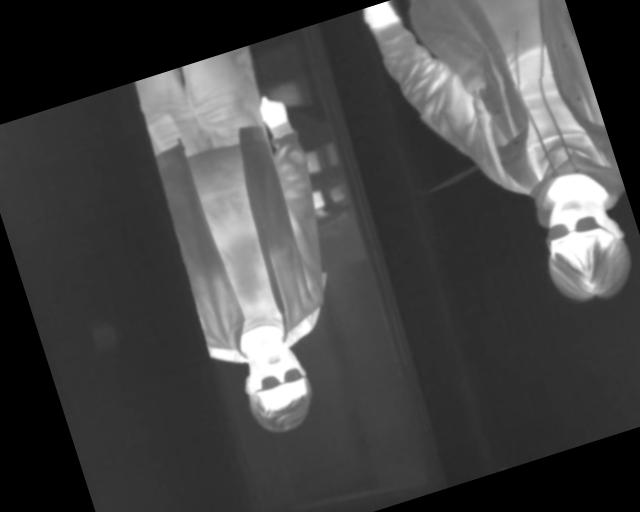face: (528, 178, 640, 313), (231, 329, 321, 437)
